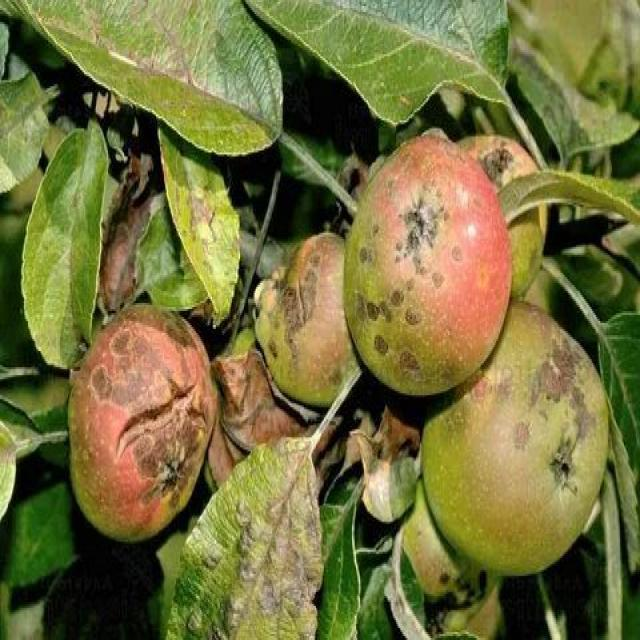Rotten: (38, 305, 230, 598), (338, 150, 514, 388), (450, 350, 607, 577)
